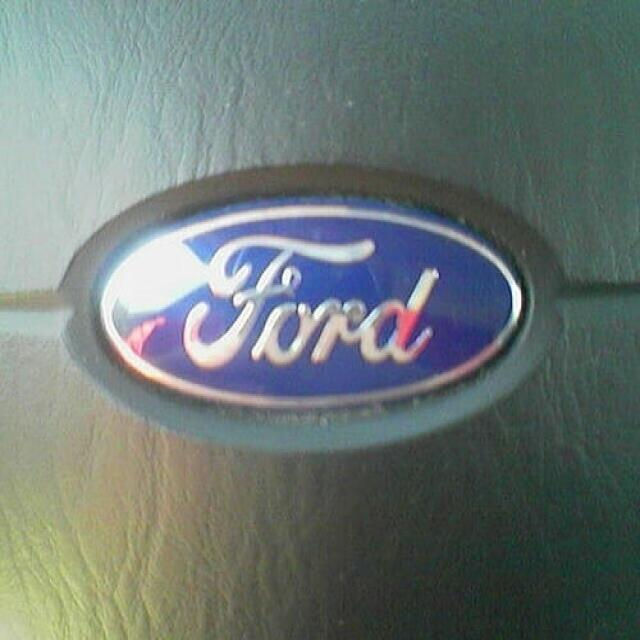ford: (50, 157, 569, 459)
